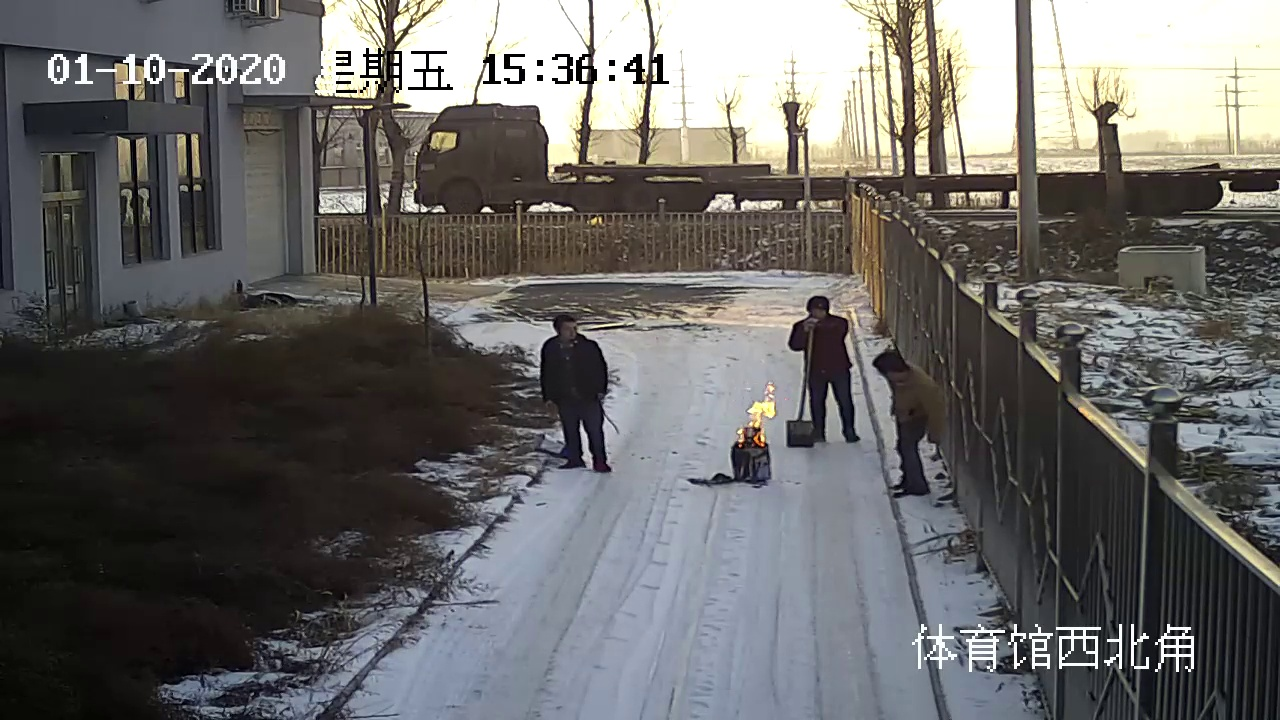fire: (740, 383, 774, 445)
